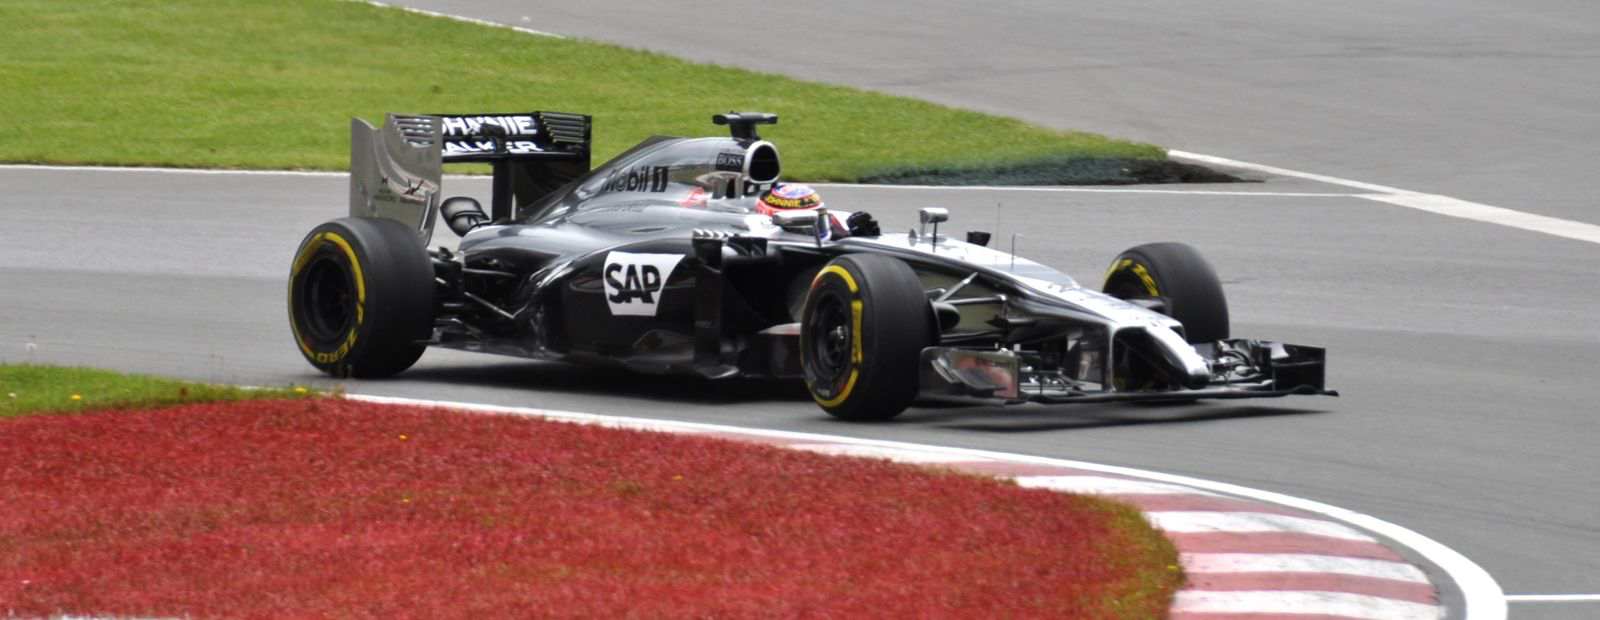F1 Car: (278, 95, 1349, 440)
